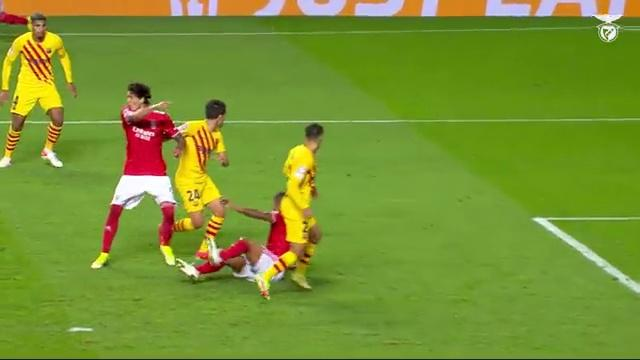player: (91, 83, 184, 268), (255, 123, 323, 298), (0, 13, 76, 167), (177, 192, 289, 280), (174, 100, 228, 258), (0, 0, 30, 27)
